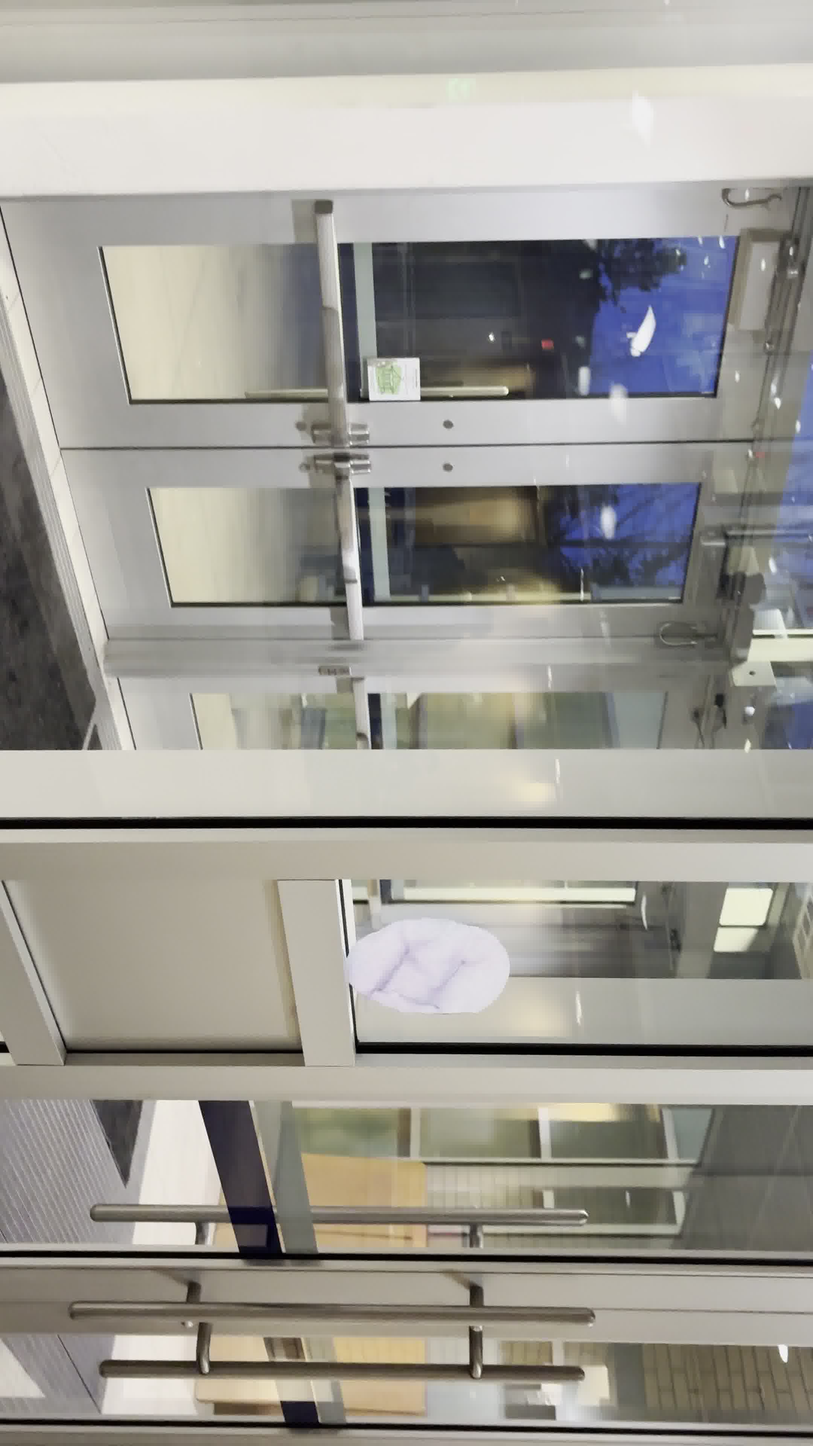Target: (348, 904, 518, 1022)
